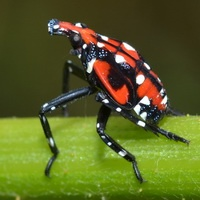insect: (39, 19, 188, 181)
